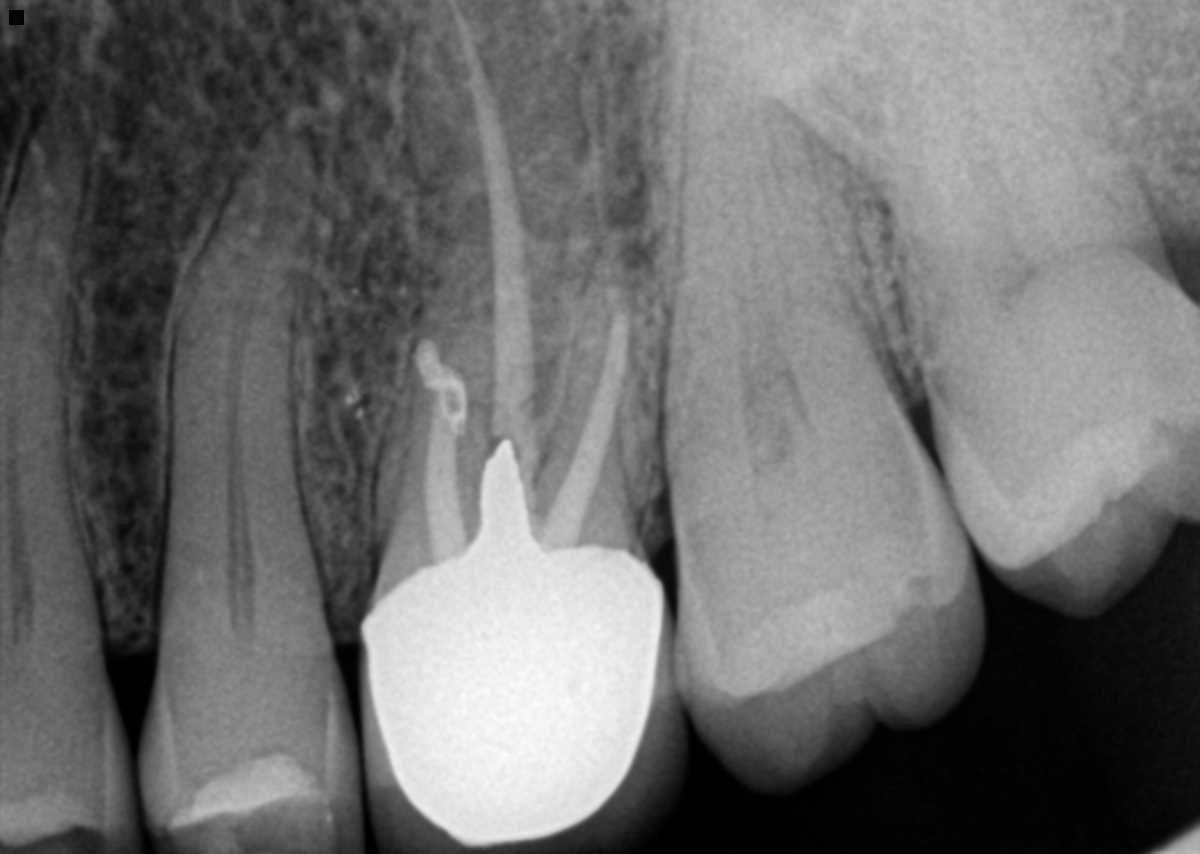Distal Root: (531, 240, 664, 551)
Main Canal: (230, 136, 302, 639), (6, 196, 47, 621)
Main Root: (663, 0, 898, 467), (891, 0, 1164, 374), (157, 117, 330, 645), (0, 85, 97, 629)
Mesial Root: (372, 319, 490, 591)
Palatal Root: (380, 0, 652, 567)
Root Canal Filling: (536, 294, 629, 553), (430, 397, 472, 561)
